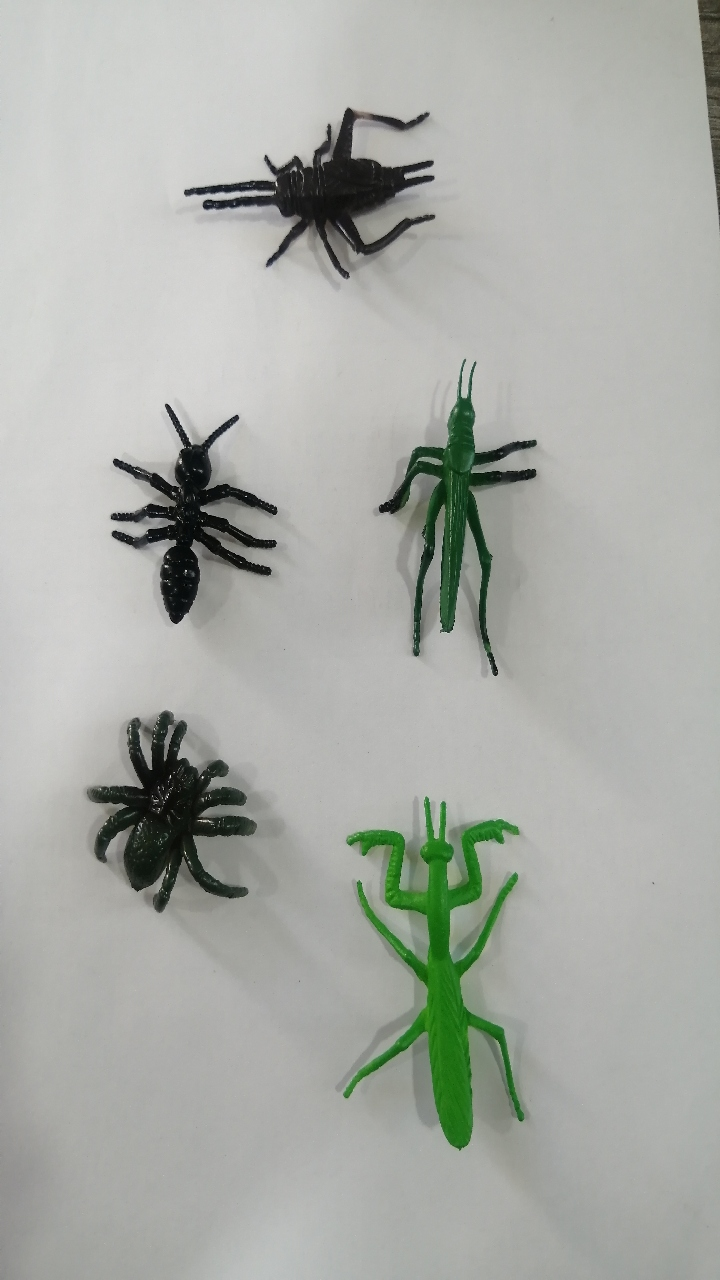intruso: (306, 775, 555, 1168), (360, 331, 583, 703), (180, 59, 466, 299), (78, 374, 306, 654), (68, 663, 284, 943)
